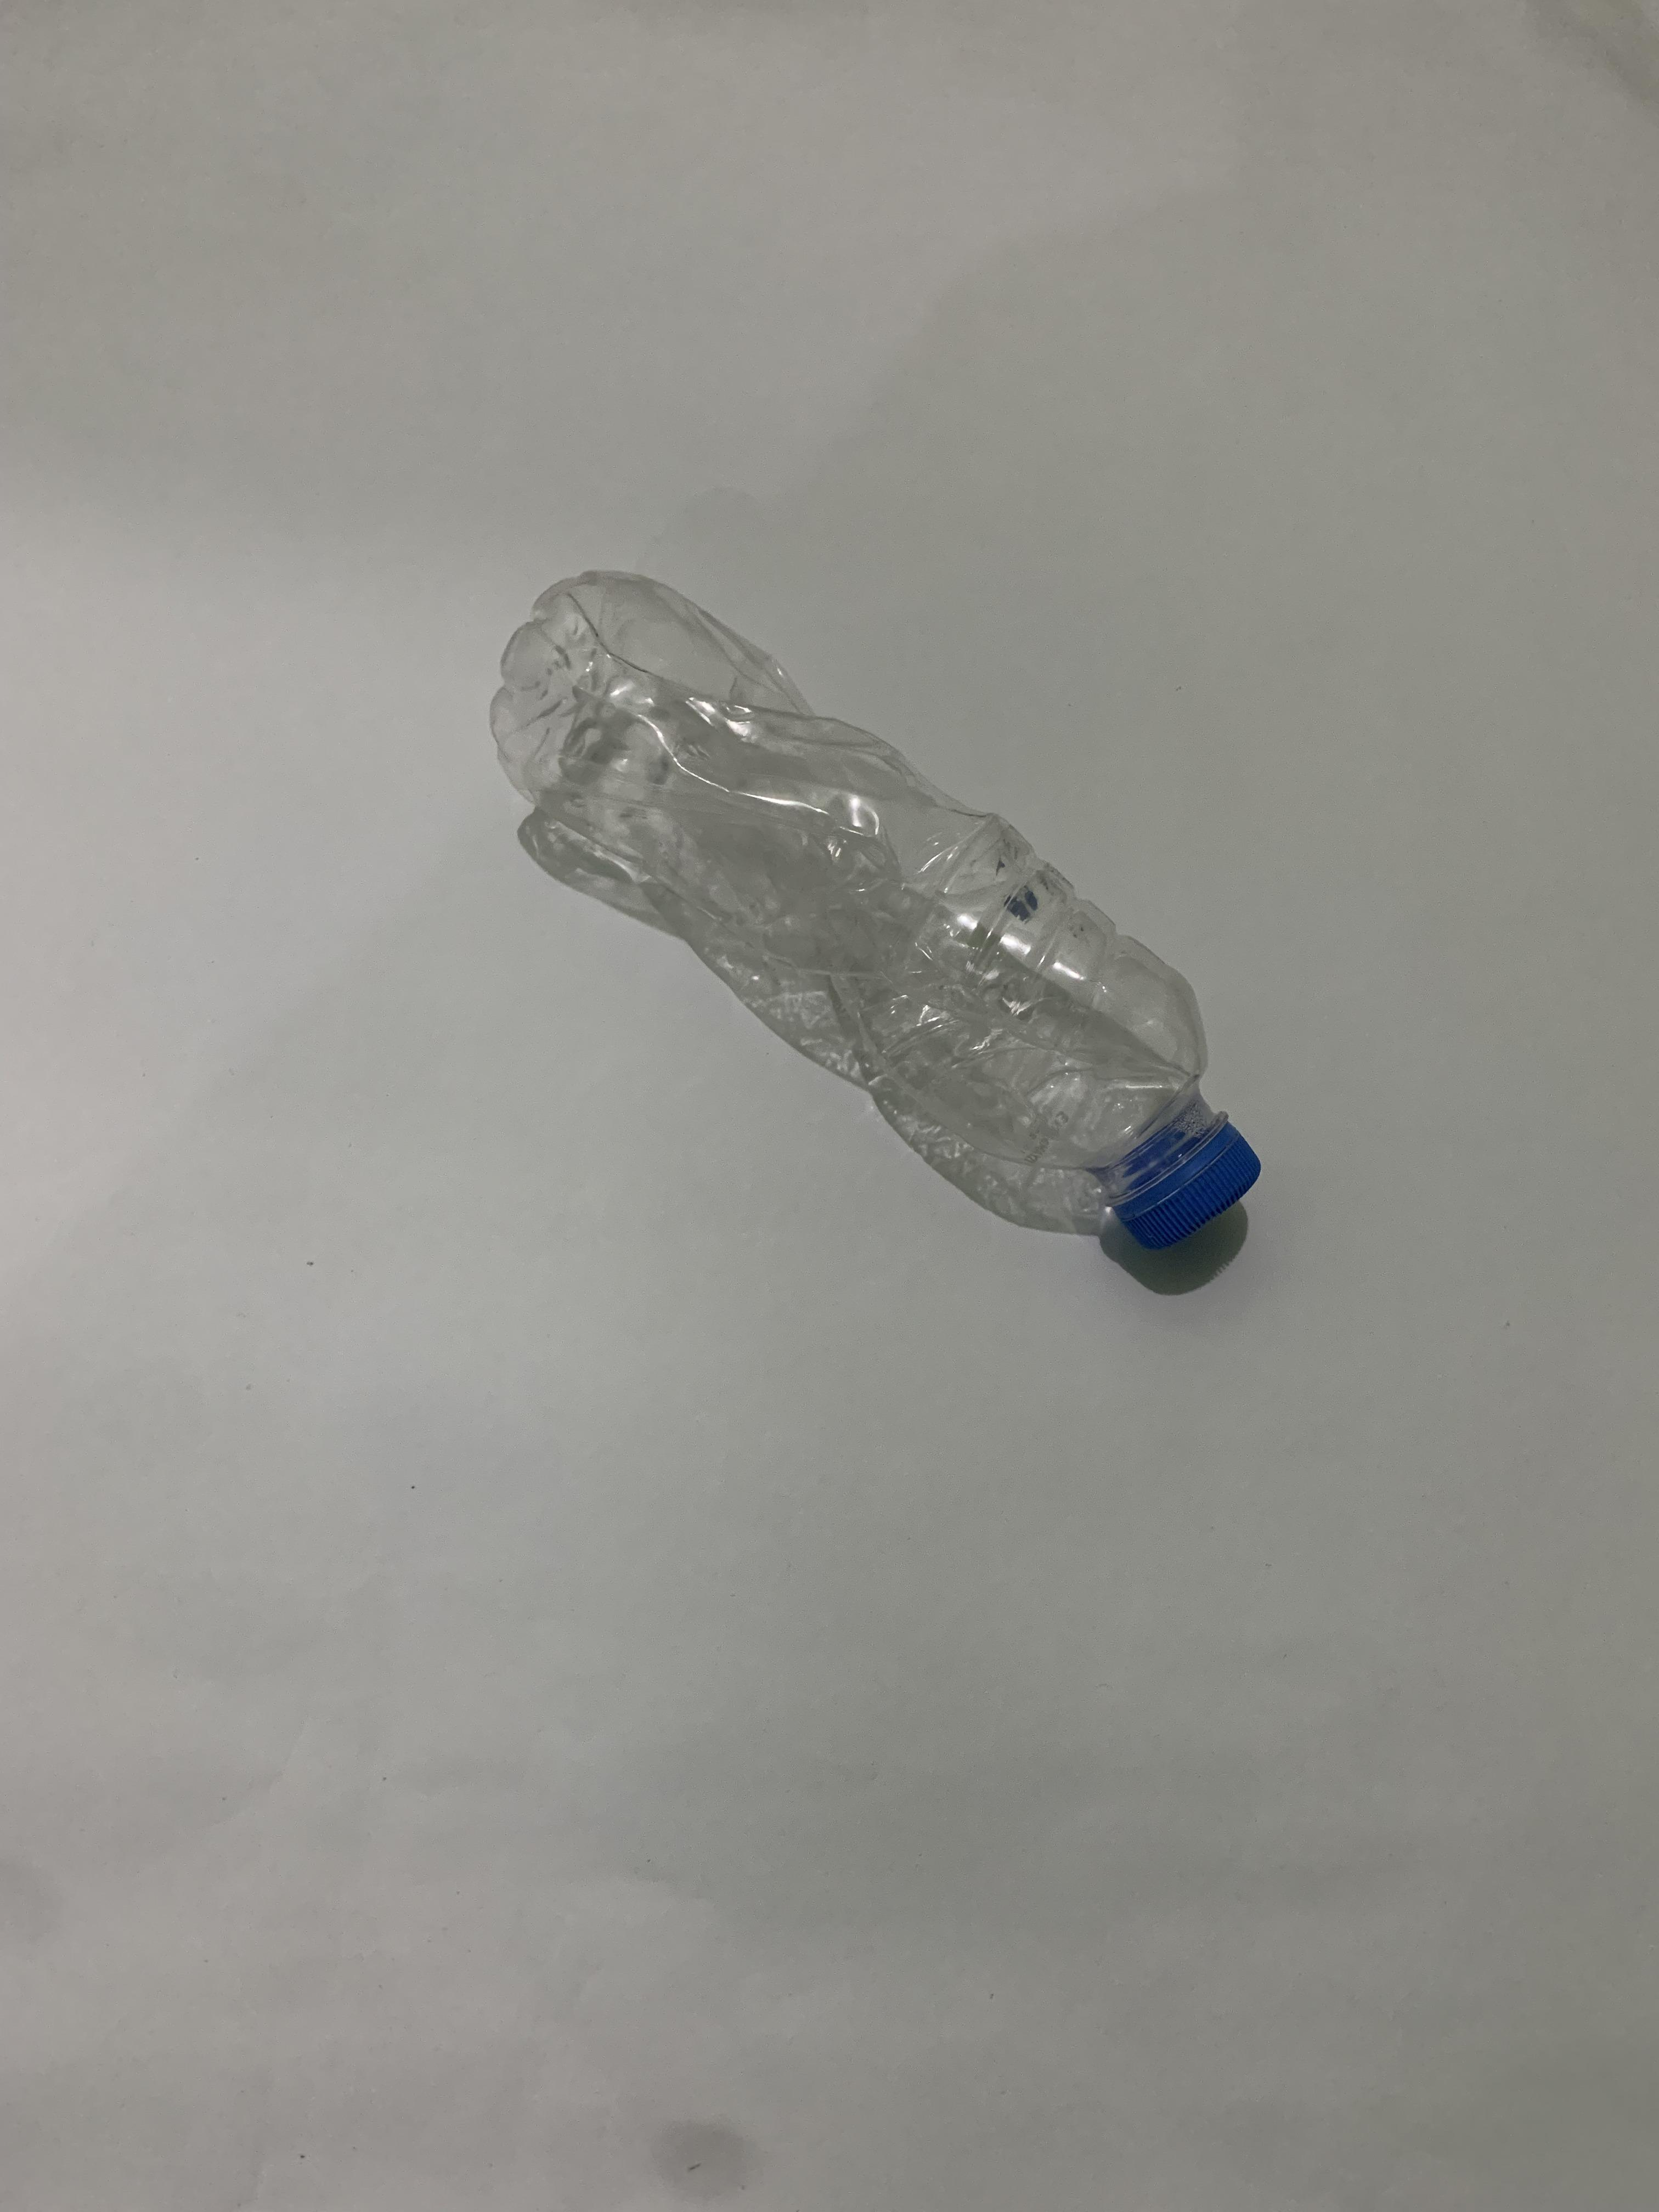bottle: (0, 554, 437, 1273)
